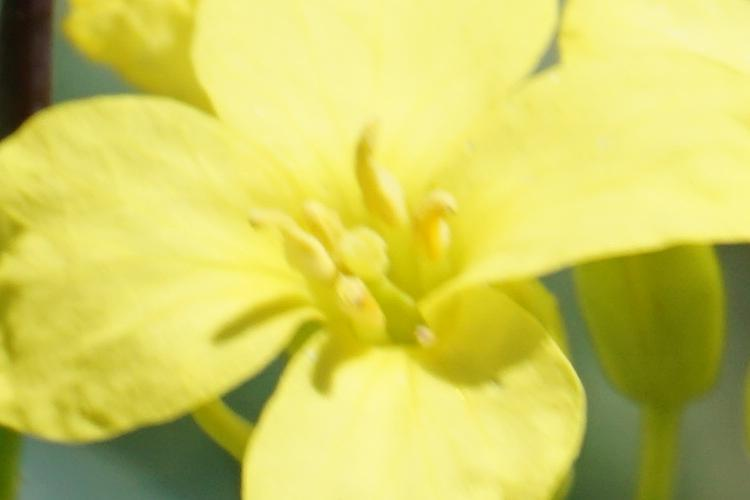bud: (577, 232, 729, 415)
yellow: (13, 13, 744, 487)
